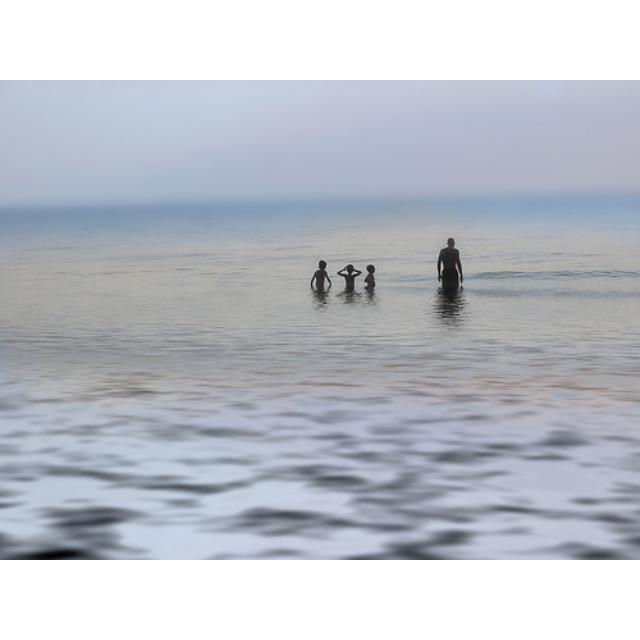human: (433, 237, 459, 292), (309, 258, 332, 295), (340, 263, 360, 293), (364, 264, 378, 292)
